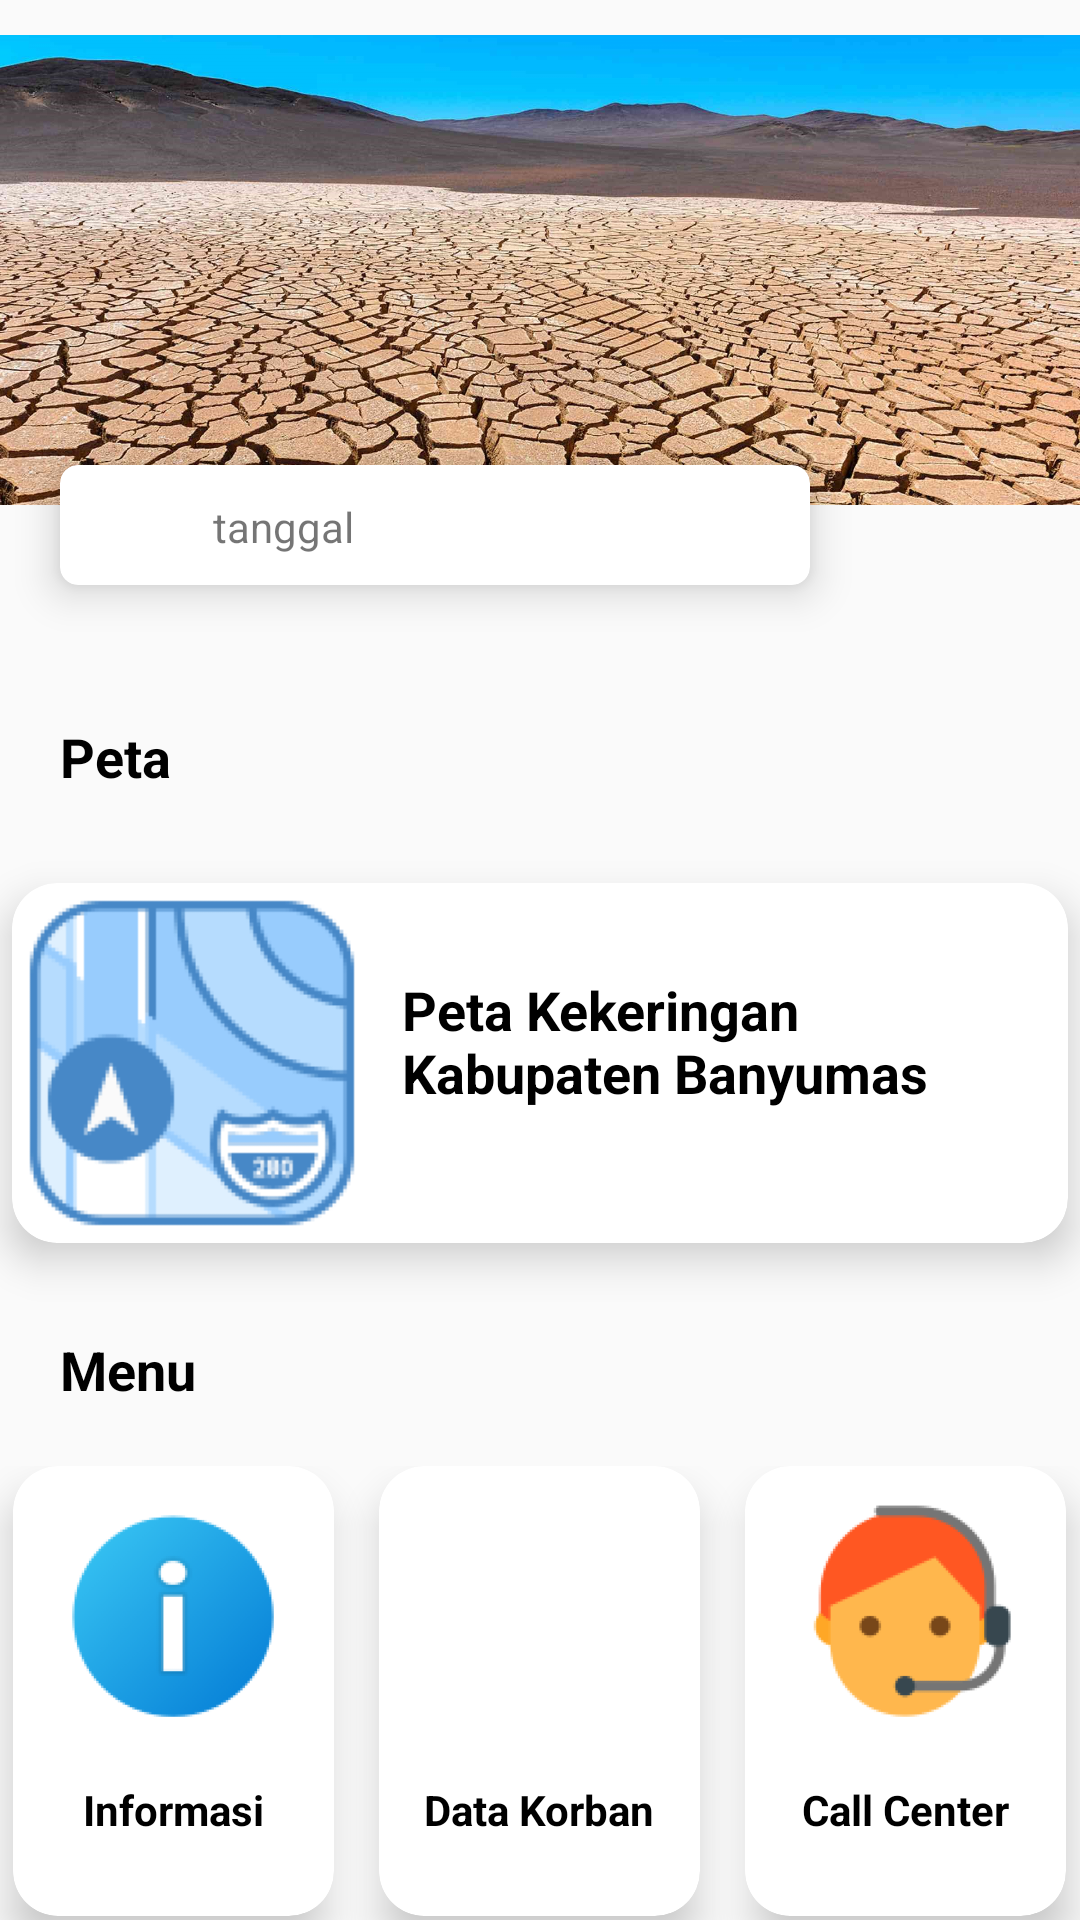

Where to tap for icons on this 1080px×1920px app screen, as (x,y):
maps: (192,1063)
